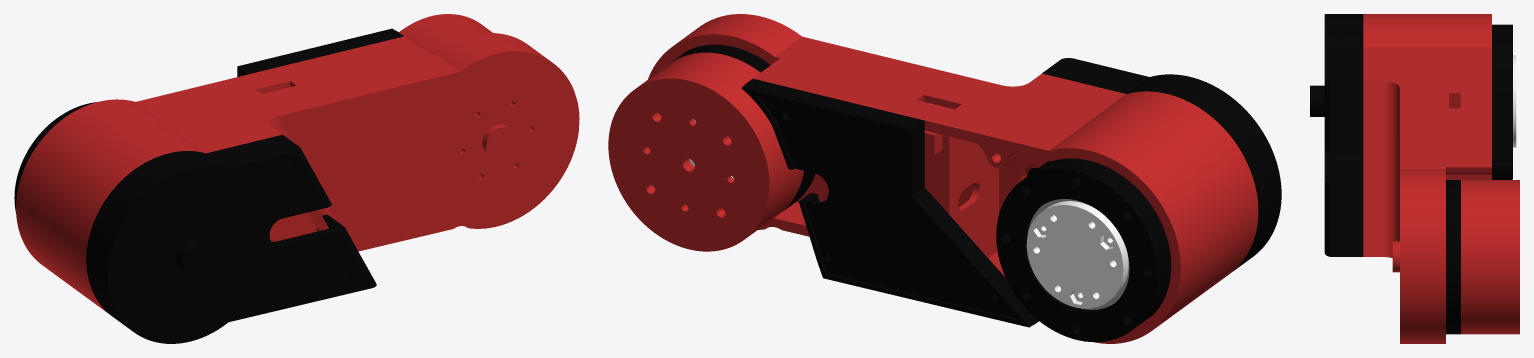
Rendered from robotic_arm_Wrist.glb.
3 renders of one model, left to right at view 1: azimuth 30°, elevation 25°; view 2: azimuth 150°, elevation 25°; view 3: azimuth 270°, elevation 25°, orthographic. The views are drawn at different scales.
Bounding box in the file's own units: 0.295 × 0.095 × 0.1142.
5 materials, 1 textured.
